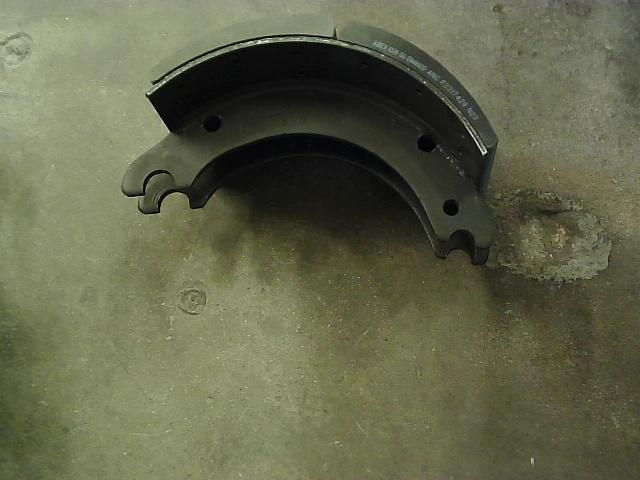brake-shoes: (121, 8, 499, 267)
